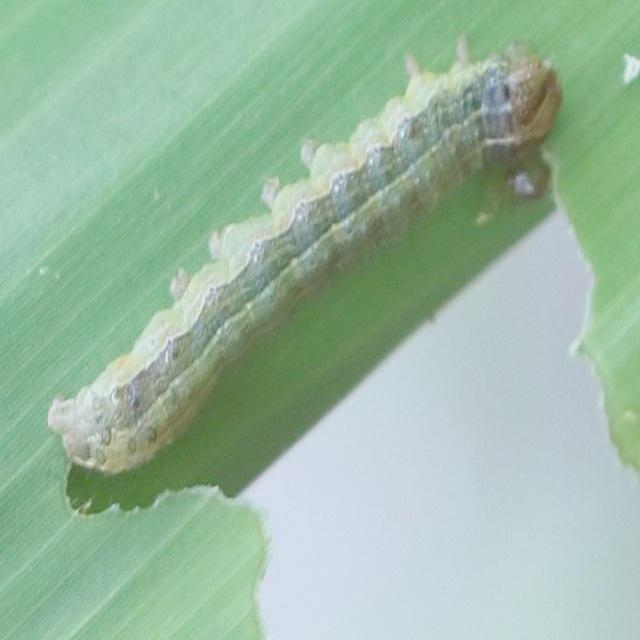gusano_cogollero: (49, 42, 556, 470)
